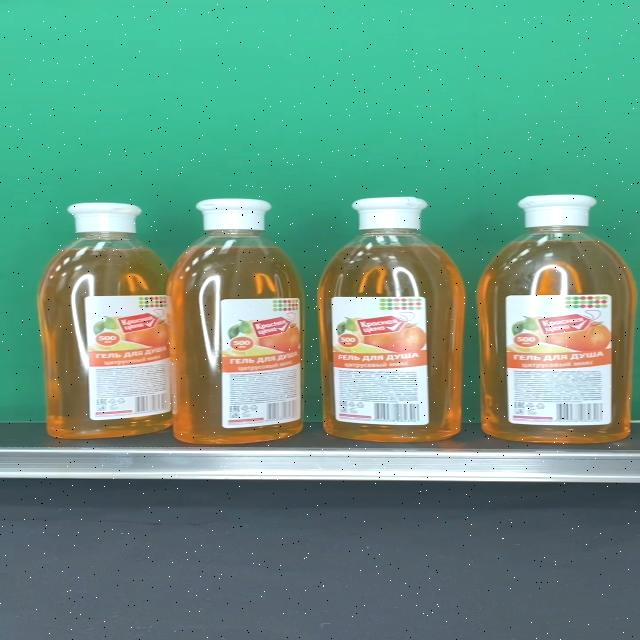Bottle: (478, 195, 636, 444), (319, 197, 464, 442), (168, 199, 302, 445), (38, 202, 172, 438)
Cap: (519, 196, 598, 228), (196, 199, 271, 232), (351, 198, 426, 230), (68, 203, 140, 233)
